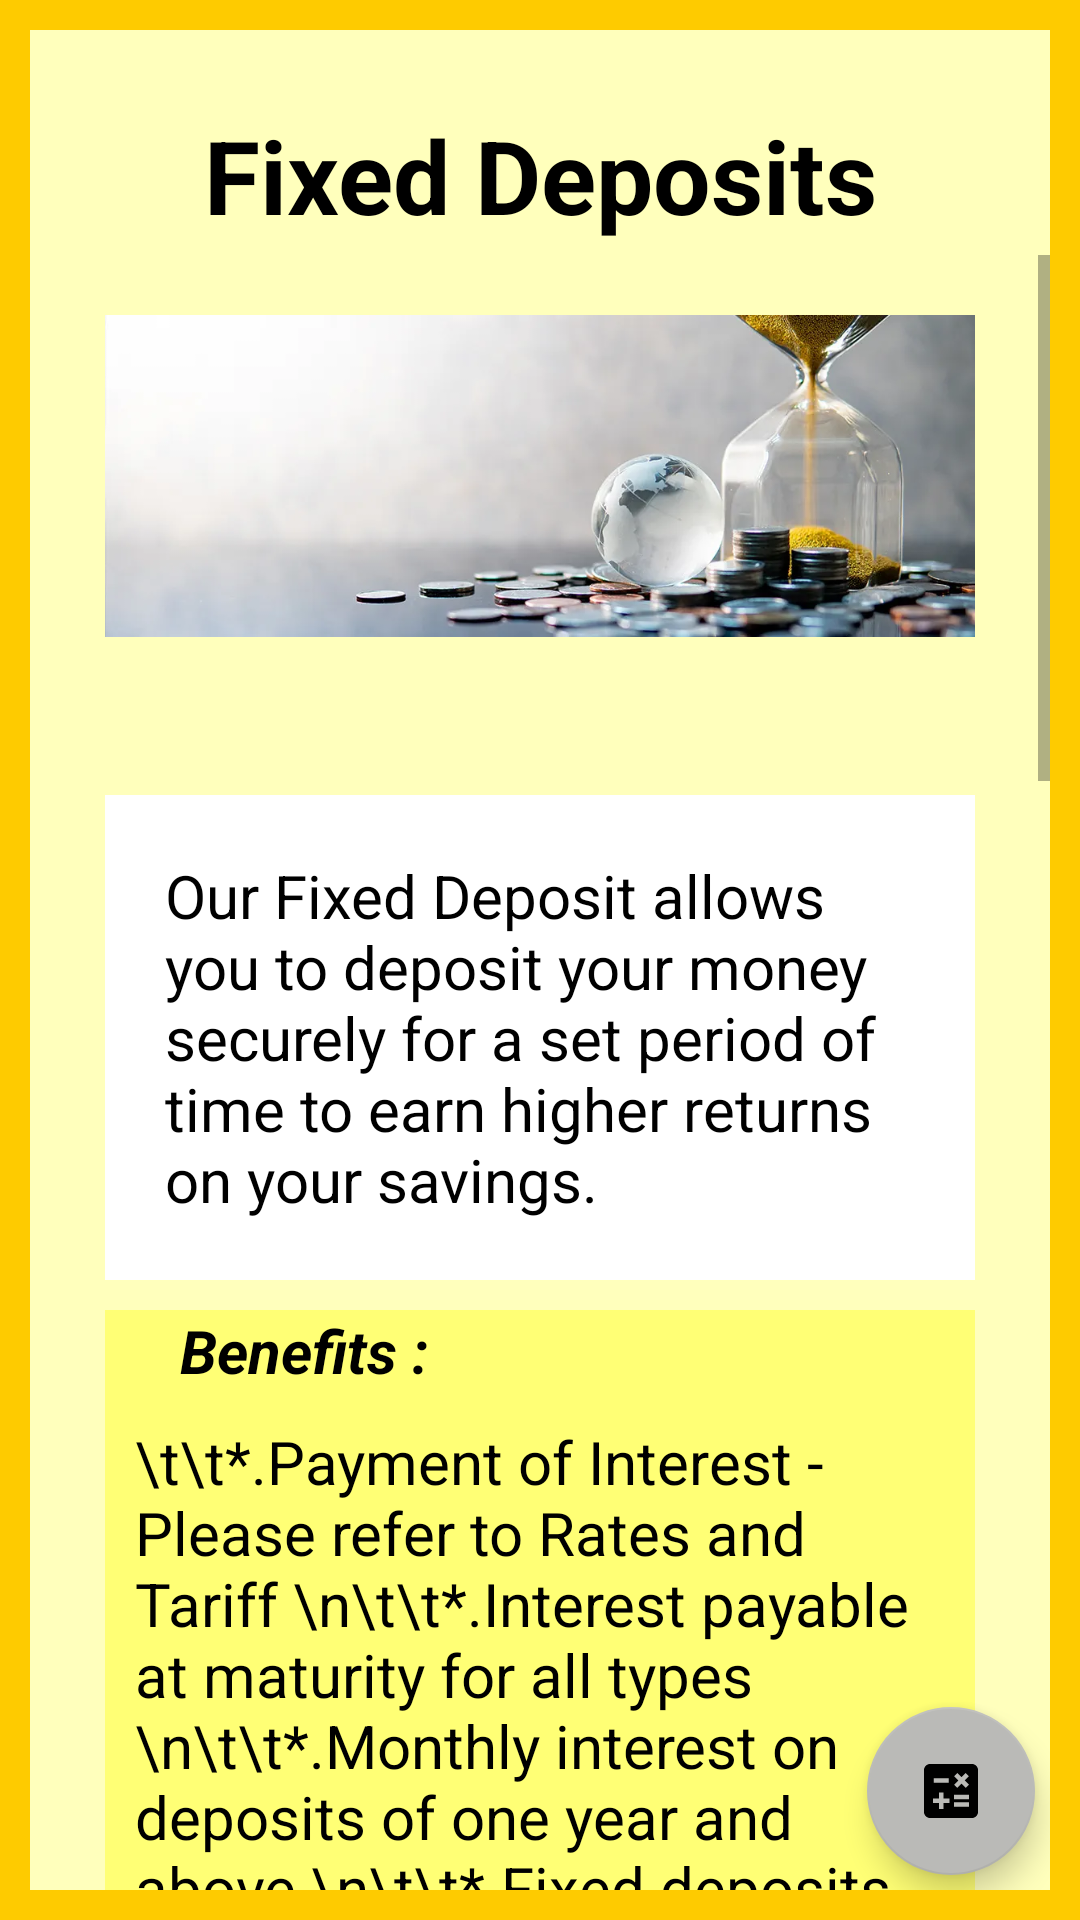

Point at icon controls on the screen. Image size 1080 × 1920, points as [x,y].
cal: [951,1791]
